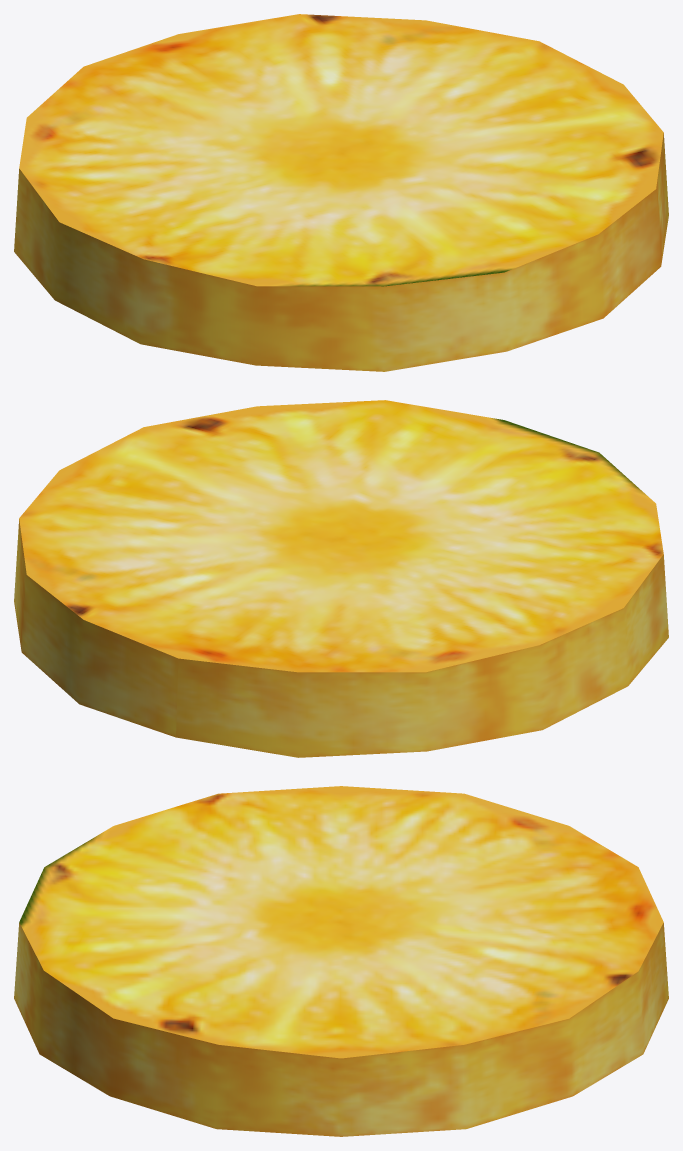
Rendered from Pineapple_Slice.fbx.
3 views of the same model, one above another, from view 1: azimuth 30°, elevation 25°; view 2: azimuth 150°, elevation 25°; view 3: azimuth 270°, elevation 25° (orthographic).
Visible parts, largest first — view 1: Pineapple_Slice; view 2: Pineapple_Slice; view 3: Pineapple_Slice.
Part boxes in pixels (x1,y1,x2,y2): Pineapple_Slice: (14,14,668,371); Pineapple_Slice: (14,400,668,757); Pineapple_Slice: (14,786,668,1136).
Size of the model in its own units: 45.42 by 6.3 by 45.42.
